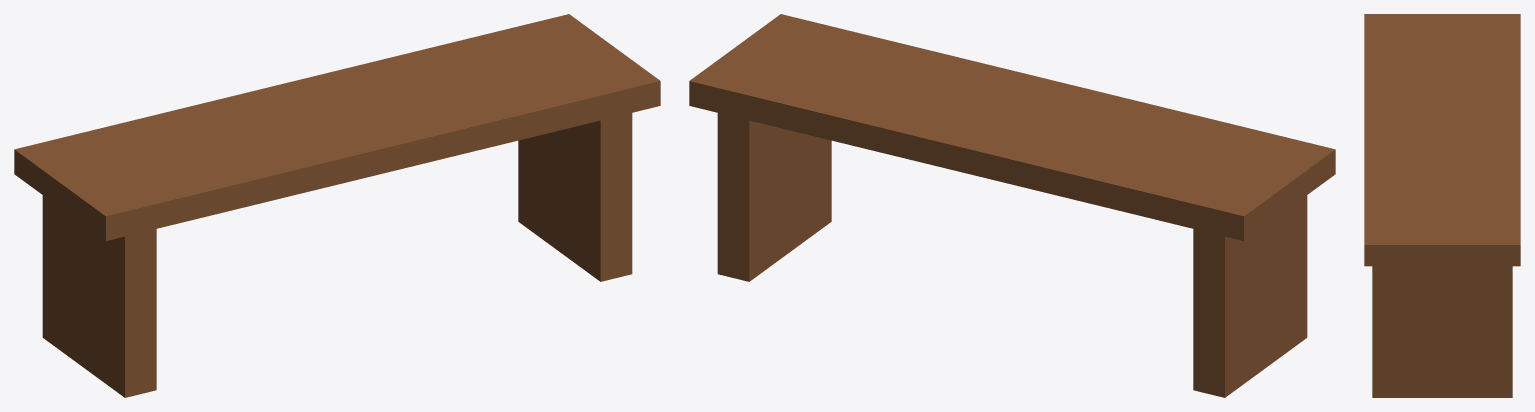
File: bench.glb
3 renders of one model, left to right at view 1: azimuth 30°, elevation 25°; view 2: azimuth 150°, elevation 25°; view 3: azimuth 270°, elevation 25°, orthographic. The views are drawn at different scales.
Parts seen in each view (by area): view 1: bench; view 2: bench; view 3: bench.
Boxes of the visible parts, box(x1,y1,x2,y2) form: bench: box(14, 14, 660, 397); bench: box(689, 14, 1335, 397); bench: box(1364, 14, 1520, 397).
Size of the model in its own units: 1.4 by 0.46 by 0.4.
